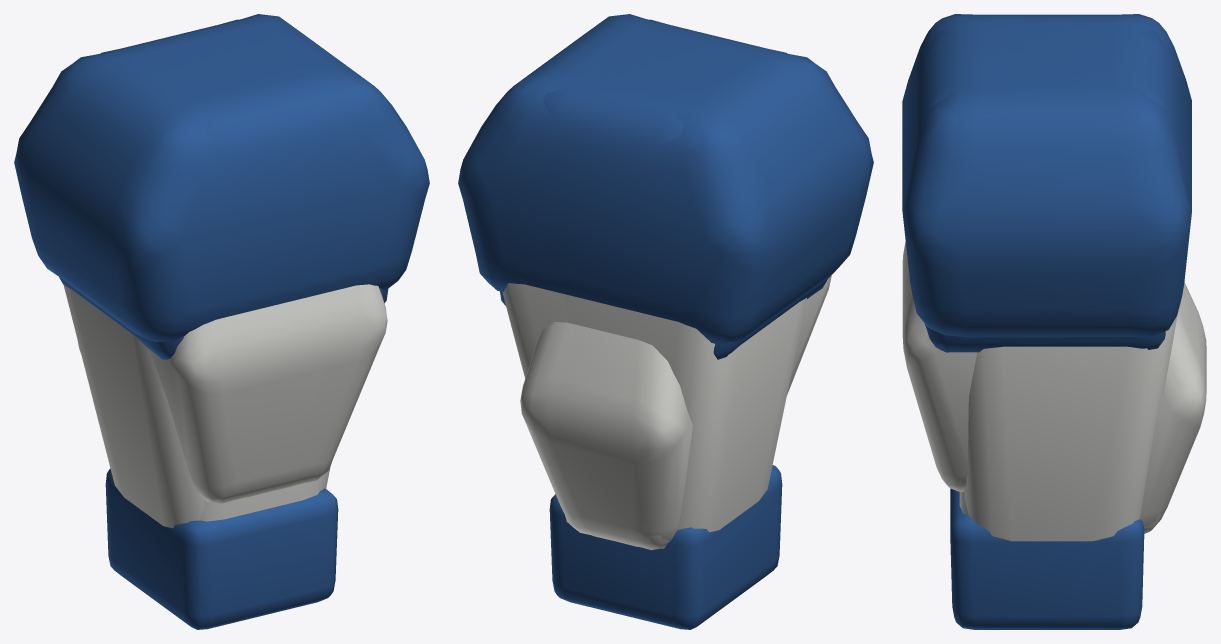
The model's file is arms-sensei.glb.
3 views of the same model, side by side, from view 1: azimuth 30°, elevation 25°; view 2: azimuth 150°, elevation 25°; view 3: azimuth 270°, elevation 25° (orthographic). The views are drawn at different scales.
Parts seen in each view (by area): view 1: armL__sleeve-cap, armR__sleeve-cap, armL__tricep, elbowL__band, armR__tricep, elbowL__fore, elbowR__band, armL__upper, armL__sleeve, armR__upper; view 2: armL__sleeve-cap, armR__sleeve-cap, armL__bicep, elbowL__fore, elbowL__band, armR__bicep, elbowR__band, elbowR__fore, armL__tricep, armL__sleeve; view 3: armR__sleeve-cap, elbowR__fore, armL__sleeve-cap, elbowL__band, elbowR__band, armR__tricep, armR__bicep, armR__sleeve, armL__bicep.
Boxes of the visible parts, box(x1,y1,x2,y2) form: armL__sleeve-cap: box(14, 19, 350, 341); armR__sleeve-cap: box(101, 14, 429, 302); armL__tricep: box(149, 295, 324, 503); elbowL__band: box(107, 469, 338, 629); armR__tricep: box(246, 284, 387, 497); elbowL__fore: box(63, 284, 204, 528); elbowR__band: box(105, 468, 337, 629); armL__upper: box(199, 479, 318, 521); armL__sleeve: box(59, 277, 183, 359); armR__upper: box(206, 479, 319, 521); armL__sleeve-cap: box(537, 19, 873, 344); armR__sleeve-cap: box(458, 14, 786, 306); armL__bicep: box(556, 326, 692, 547); elbowL__fore: box(564, 294, 806, 532); elbowL__band: box(549, 465, 782, 629); armR__bicep: box(520, 321, 669, 550); elbowR__band: box(552, 466, 782, 629); elbowR__fore: box(502, 283, 638, 378); armL__tricep: box(787, 275, 831, 394); armL__sleeve: box(713, 279, 827, 359); armR__sleeve-cap: box(902, 30, 1191, 337); elbowR__fore: box(964, 313, 1177, 541); armL__sleeve-cap: box(902, 14, 1191, 185); elbowL__band: box(950, 489, 1144, 629); elbowR__band: box(950, 488, 1144, 629); armR__tricep: box(902, 270, 976, 491); armR__bicep: box(1140, 291, 1206, 527); armR__sleeve: box(925, 324, 1165, 352); armL__bicep: box(1144, 282, 1206, 533).
Size of the model in its own units: 0.229 by 0.38 by 0.1932.
